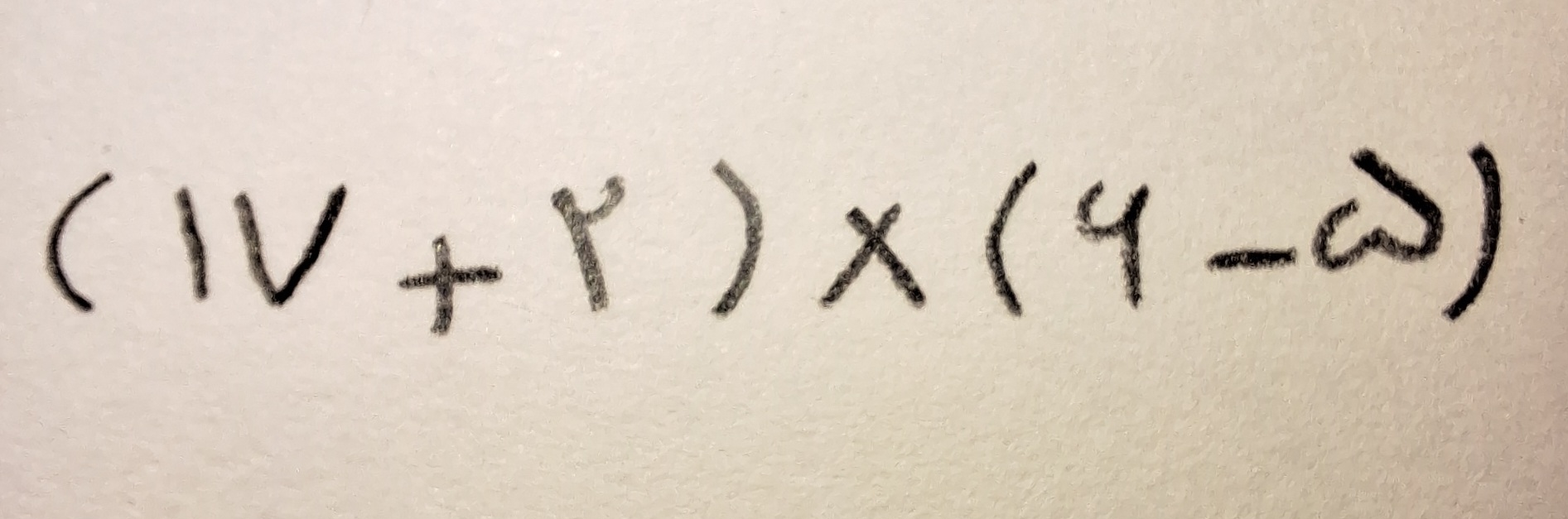character: (1311, 146, 1446, 269), (234, 185, 348, 311), (819, 203, 926, 318), (1441, 140, 1503, 321), (551, 177, 628, 317), (1076, 182, 1154, 318), (398, 232, 500, 335), (48, 166, 112, 313), (711, 159, 767, 316), (985, 160, 1039, 316), (175, 185, 208, 298), (1208, 246, 1298, 267)
